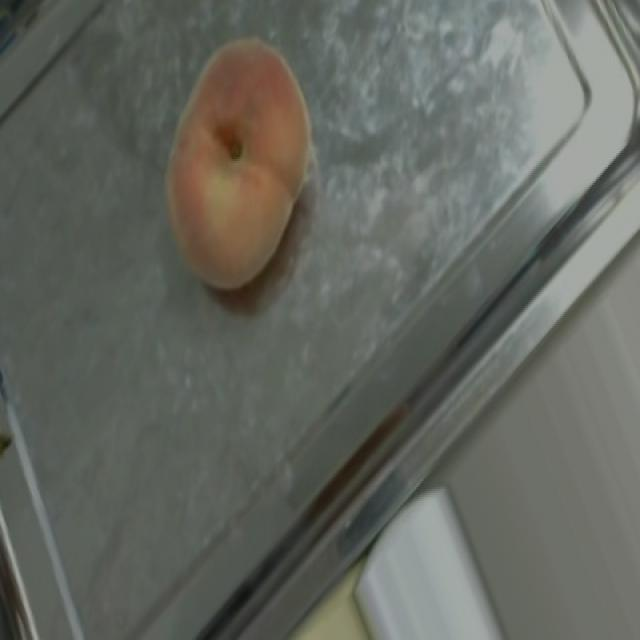Fruit: (121, 12, 348, 318)
